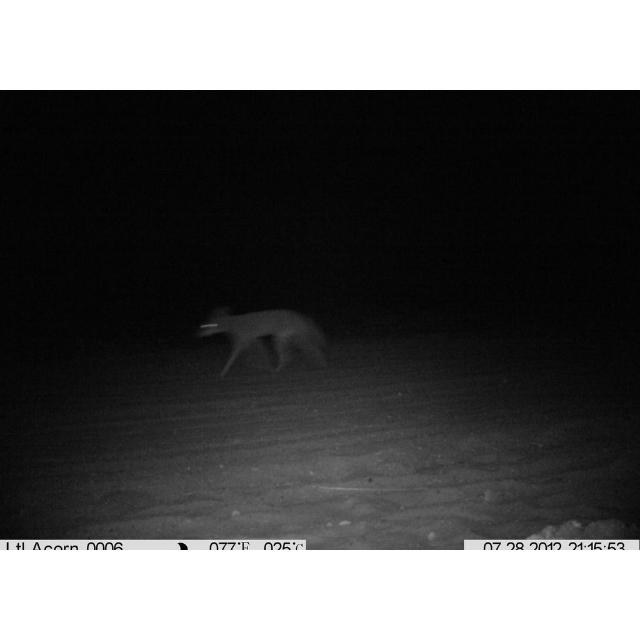animals: (201, 308, 327, 374)
